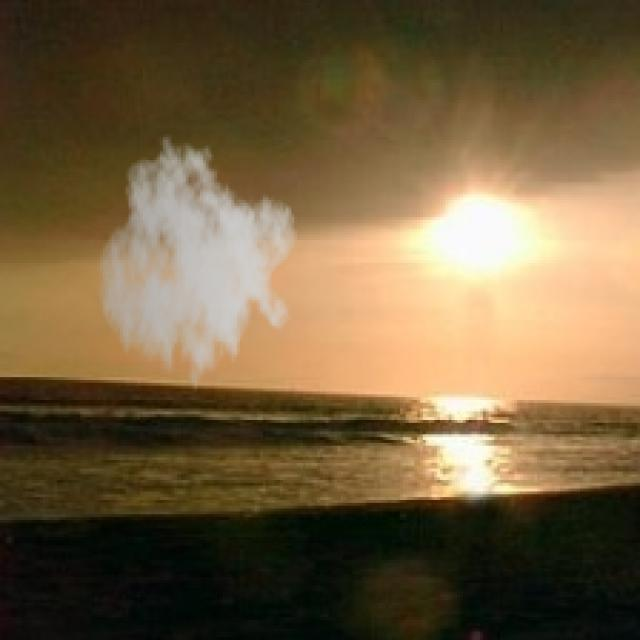smoke: (97, 134, 297, 406)
